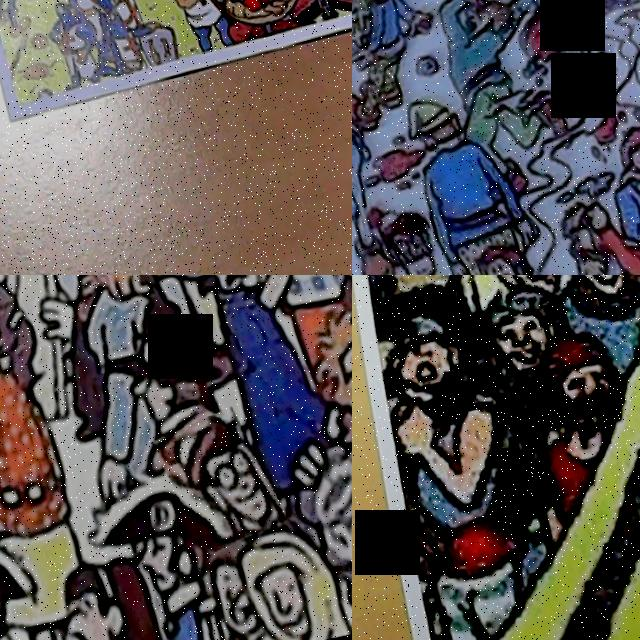waldo: (147, 400, 282, 554), (356, 182, 448, 275), (458, 275, 576, 319)
